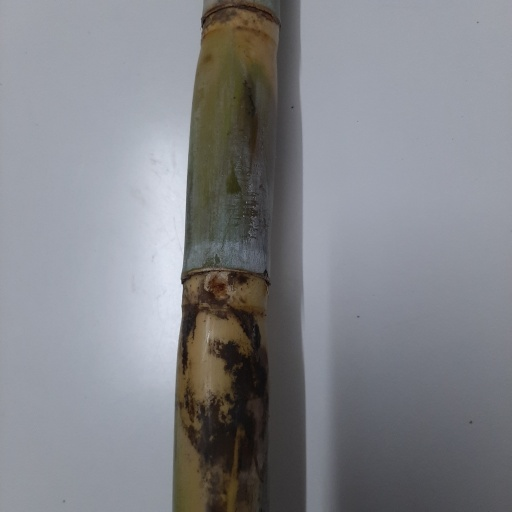Damage_Bud: (205, 271, 232, 301)
